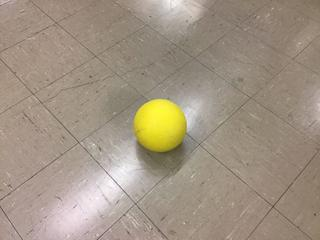power_cell: (125, 97, 186, 158)
